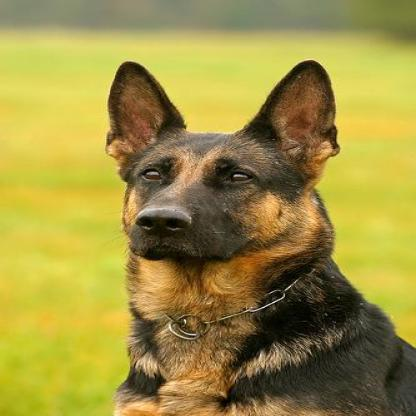German_shepherd: (105, 58, 412, 414)
